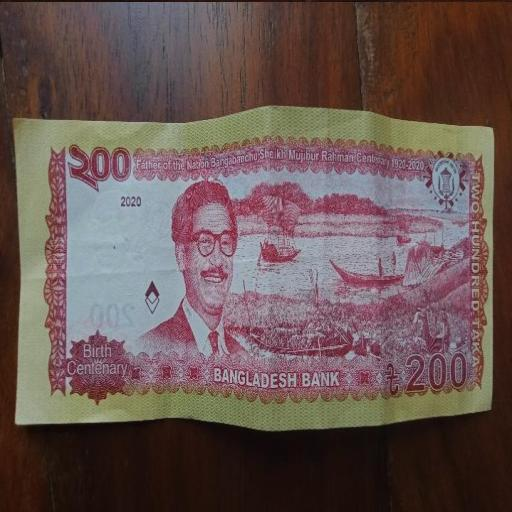200taka: (14, 107, 494, 429)
